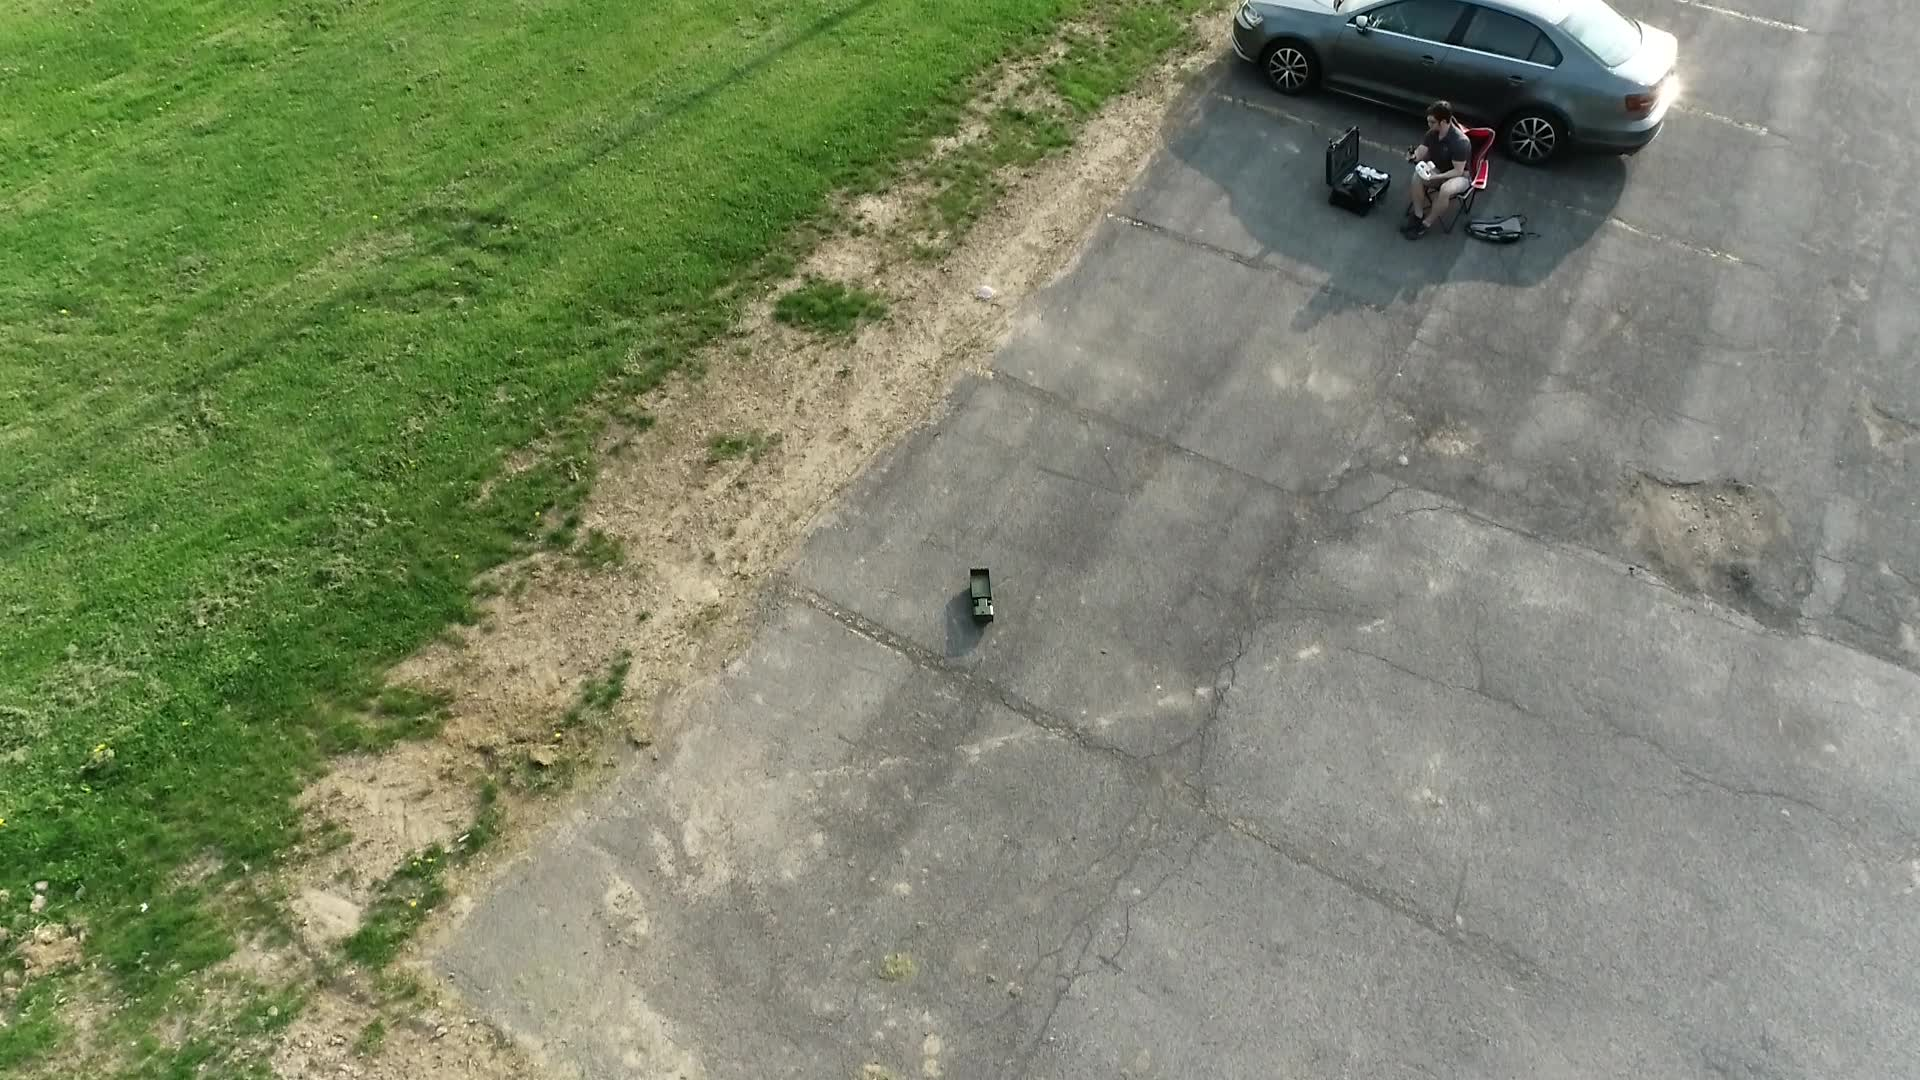transporter9: (964, 564, 1002, 626)
